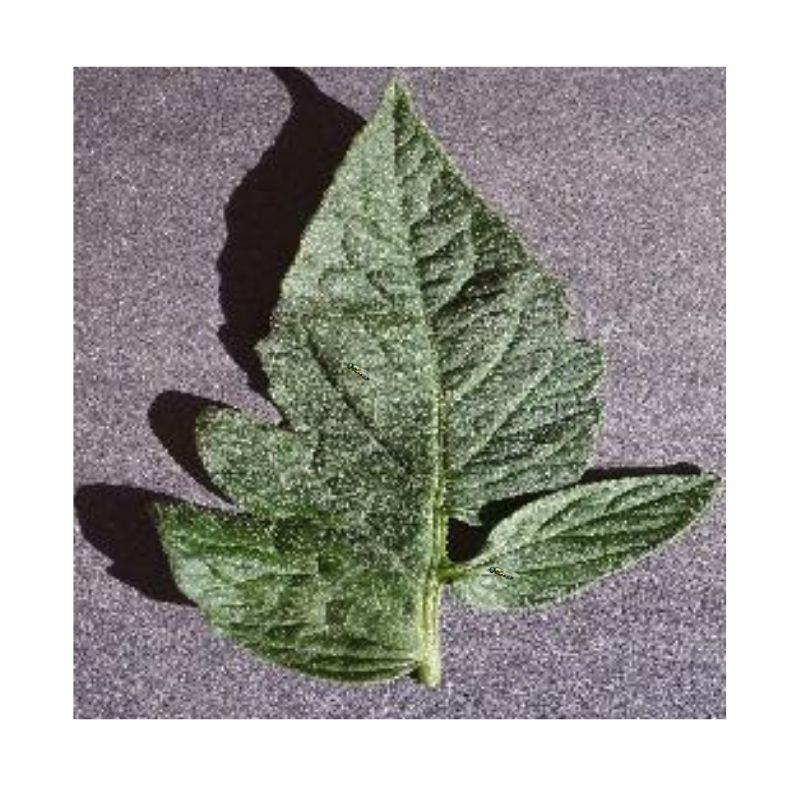liriomyza: (487, 562, 518, 582), (345, 360, 373, 381)
